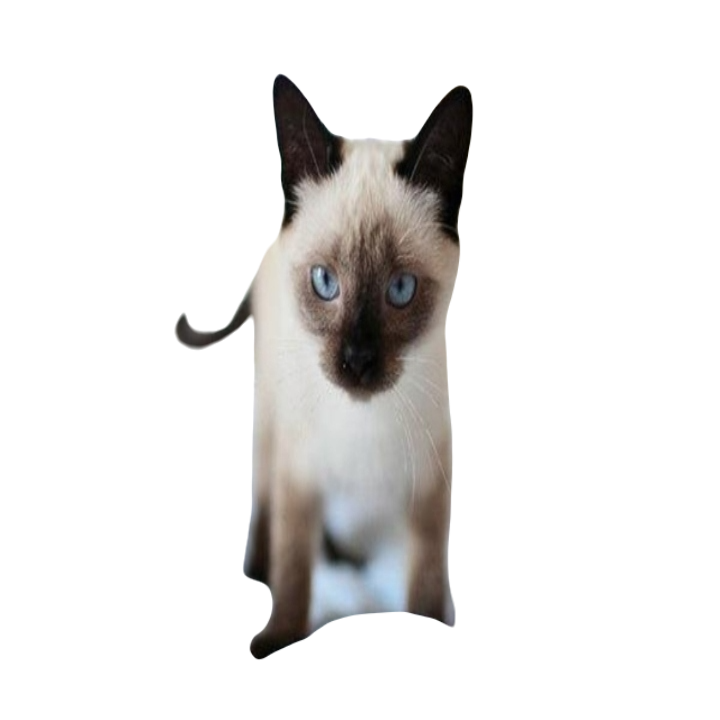Cat: (169, 66, 483, 652)
